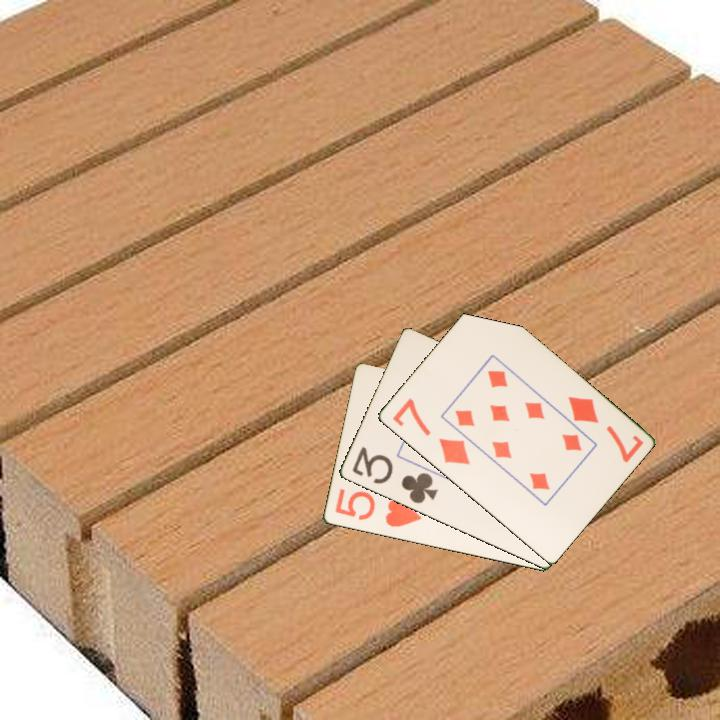3c: (348, 443, 441, 507)
5h: (331, 485, 424, 530)
7d: (388, 394, 473, 468), (564, 393, 646, 466)
